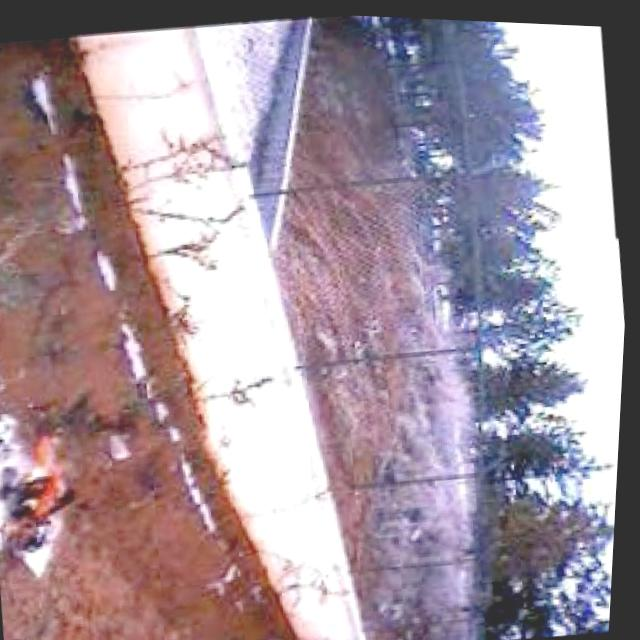Fire: (0, 427, 90, 557)
